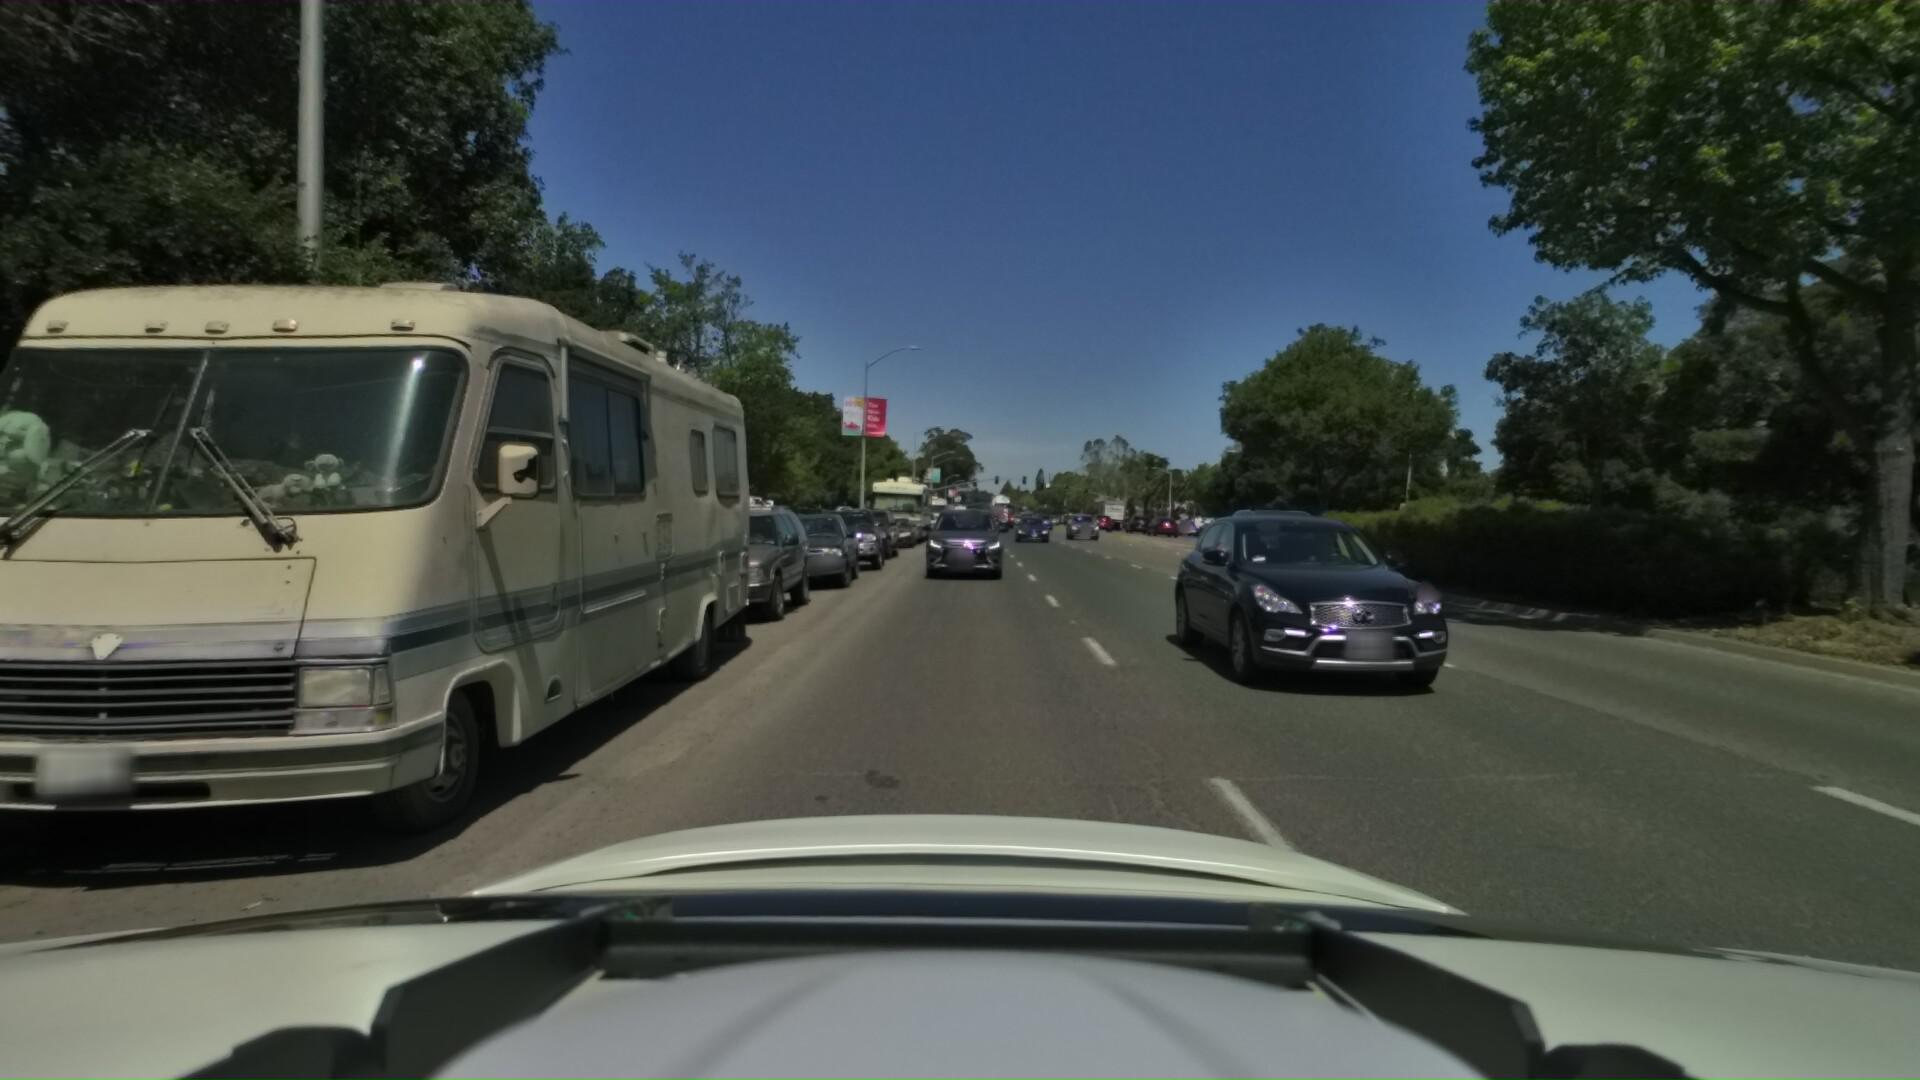car: (1145, 505, 1414, 679), (658, 500, 829, 633), (1203, 498, 1331, 583), (770, 508, 869, 591), (1840, 531, 1920, 633), (919, 498, 1010, 582), (818, 502, 889, 574), (837, 502, 906, 562), (876, 513, 920, 549), (1013, 512, 1048, 541), (1063, 509, 1097, 537), (981, 509, 1011, 539), (1145, 512, 1182, 531)
other_vehicle: (0, 153, 804, 945), (868, 464, 935, 546), (915, 492, 948, 527)
